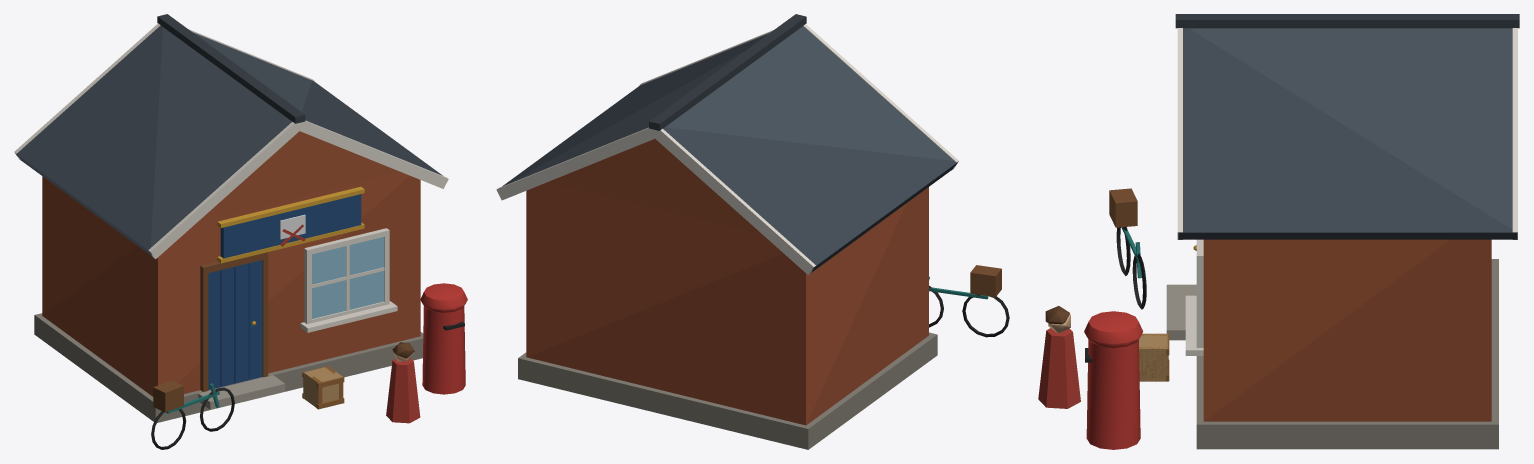
Rendered from post_office.glb.
3 renders of one model, left to right at view 1: azimuth 30°, elevation 25°; view 2: azimuth 150°, elevation 25°; view 3: azimuth 270°, elevation 25°, orthographic. The views are drawn at different scales.
Visible parts, largest first — view 1: town-post_office; view 2: town-post_office; view 3: town-post_office.
Boxes of the visible parts, bbox=[...] form: town-post_office: bbox=[14, 14, 467, 449]; town-post_office: bbox=[496, 14, 1009, 449]; town-post_office: bbox=[1038, 14, 1519, 449].
Bounding box in the file's own units: 5.14 × 4.28 × 5.35.
